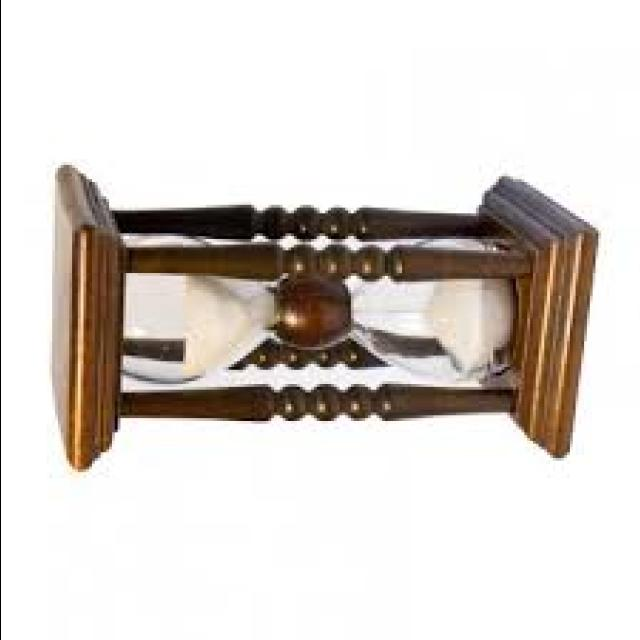clock: (32, 154, 594, 532)
